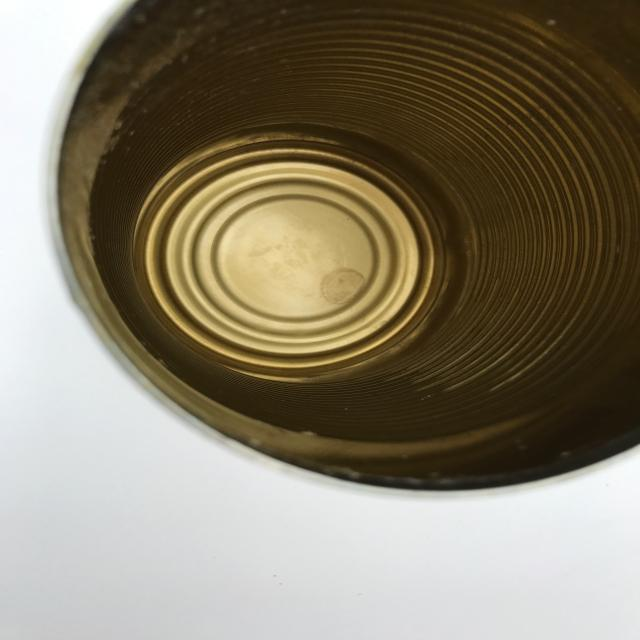metal: (45, 1, 640, 495)
